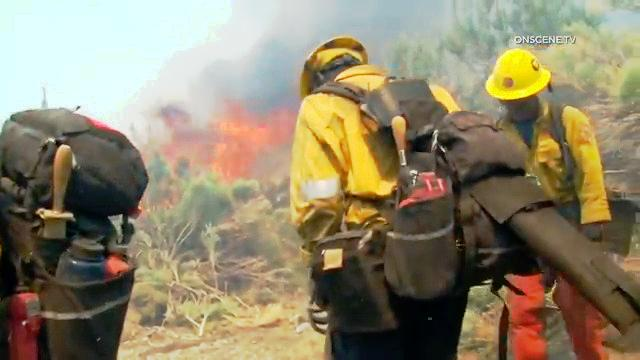fire: (217, 98, 269, 178)
